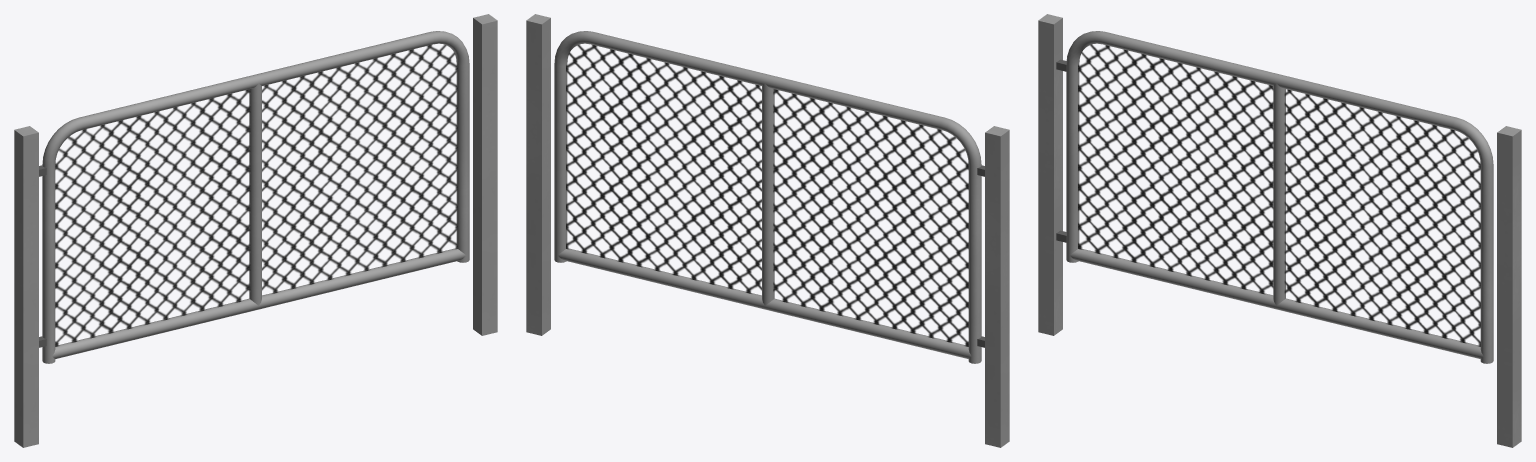
File: fence-chainlink-gate-2m-cbj_LOD00.gltf
3 renders of one model, left to right at view 1: azimuth 30°, elevation 25°; view 2: azimuth 150°, elevation 25°; view 3: azimuth 330°, elevation 25°, orthographic.
Visible parts, largest first — view 1: post.002; view 2: post.002; view 3: post.002.
Boxes of the visible parts, left/top/right/bottom form: post.002: left=14, top=14, right=497, bottom=447; post.002: left=526, top=14, right=1009, bottom=447; post.002: left=1038, top=14, right=1521, bottom=447.
Bounding box in the file's own units: 2.12 × 1.33 × 0.07.
